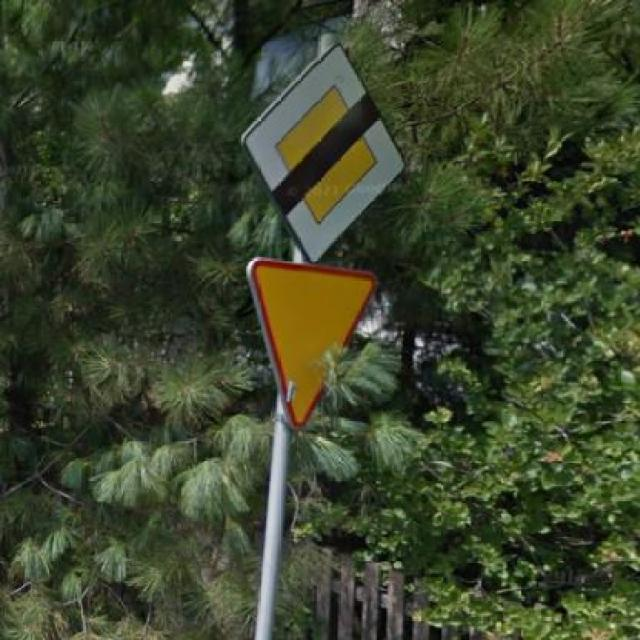Droga z pierwszenstwem: (239, 40, 406, 265)
Ustap pierwszenstwa: (246, 256, 380, 429)
